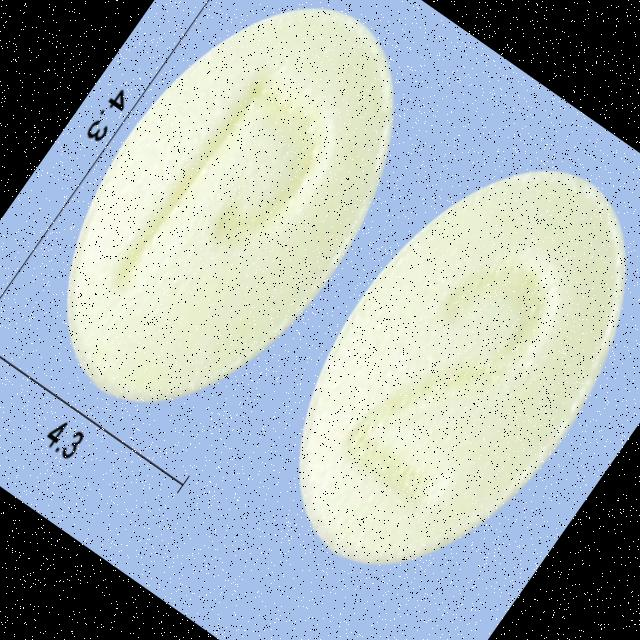Azabio - 25mg: (223, 108, 640, 633), (0, 0, 466, 469)
